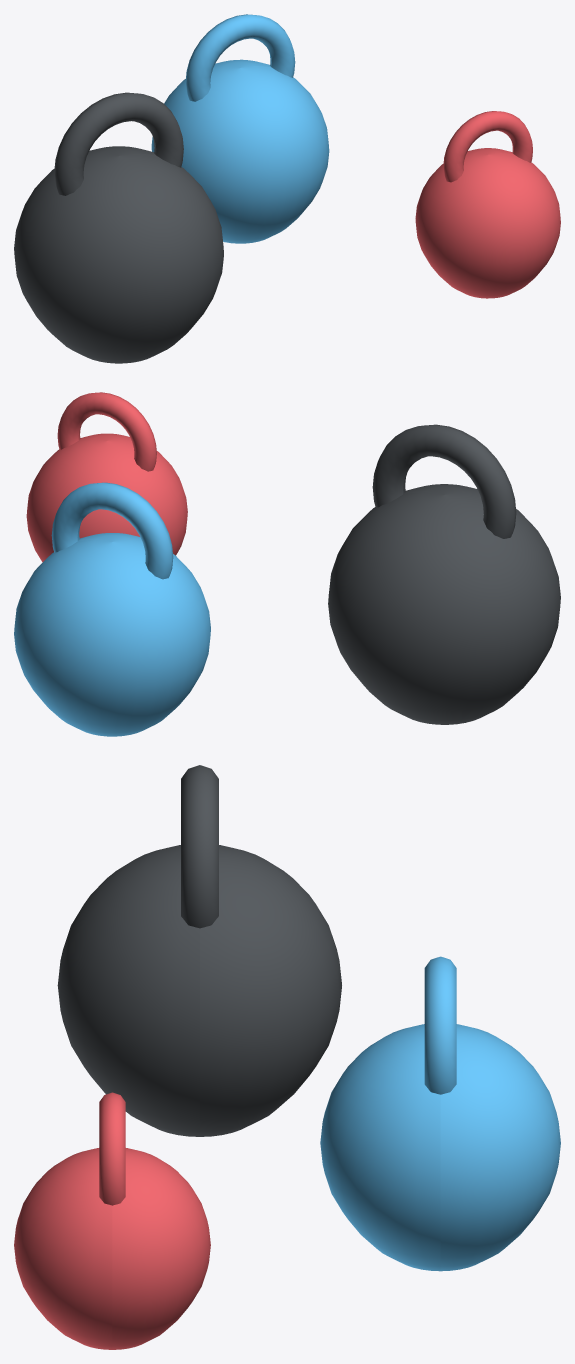
Rendered from kettlebells.glb.
The picture shows the model from 3 angles, top to bottom: view 1: azimuth 30°, elevation 25°; view 2: azimuth 150°, elevation 25°; view 3: azimuth 270°, elevation 25°; orthographic projection. The views are drawn at different scales.
Size of the model in its own units: 0.7 by 0.3588 by 0.5.
